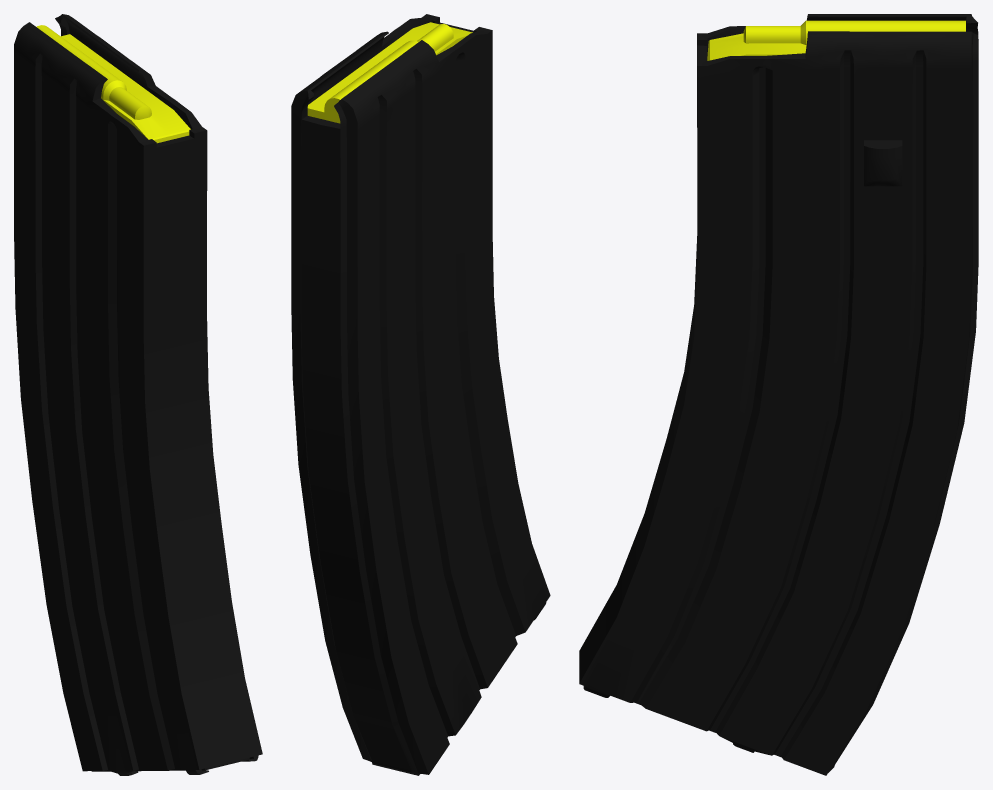
Rendered from magazine556.fbx.
3 views of the same model, side by side, from view 1: azimuth 30°, elevation 25°; view 2: azimuth 150°, elevation 25°; view 3: azimuth 270°, elevation 25° (orthographic). The views are drawn at different scales.
Visible parts, largest first — view 1: Box001; view 2: Box001; view 3: Box001.
Part boxes in pixels (left/top/right/bottom): Box001: left=14, top=14, right=262, bottom=775; Box001: left=291, top=14, right=550, bottom=775; Box001: left=579, top=14, right=978, bottom=775.
Bounding box in the file's own units: 5.22 × 50.02 × 24.48.
